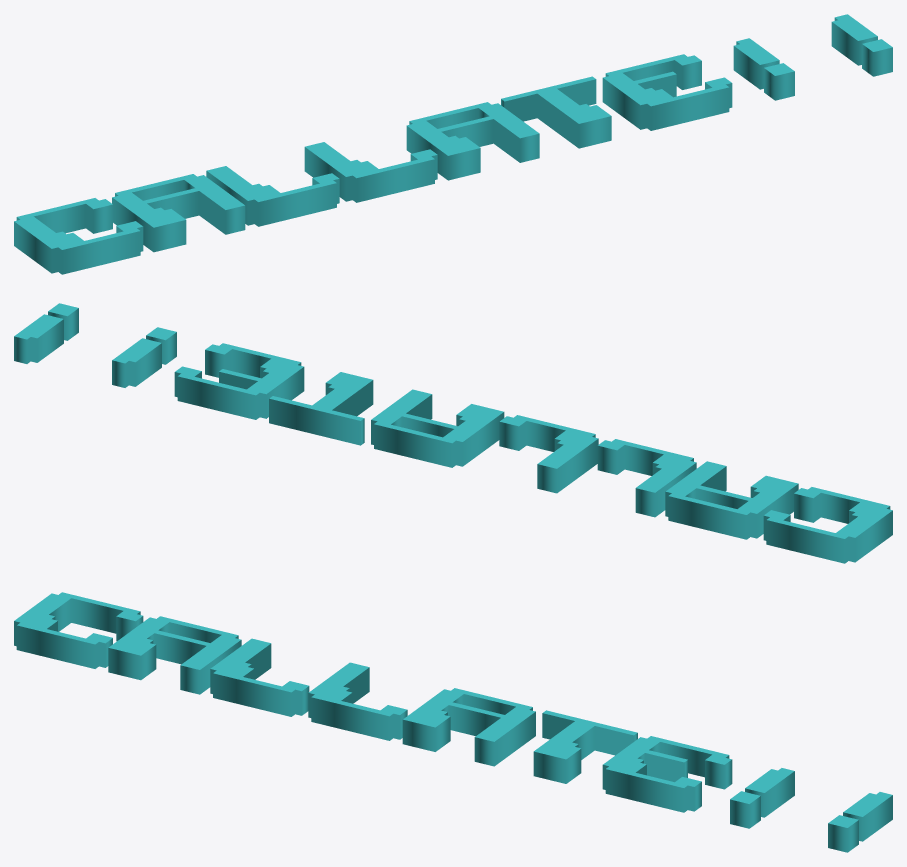
File: callate.fbx
The picture shows the model from 3 angles, top to bottom: view 1: azimuth 30°, elevation 25°; view 2: azimuth 150°, elevation 25°; view 3: azimuth 330°, elevation 25°; orthographic projection.
Parts seen in each view (by area): view 1: Text; view 2: Text; view 3: Text.
Part boxes in pixels (left/top/right/bottom): Text: left=14, top=14, right=892, bottom=274; Text: left=14, top=303, right=892, bottom=563; Text: left=14, top=592, right=892, bottom=852.
Bounding box in the file's own units: 1067 × 30 × 100.
